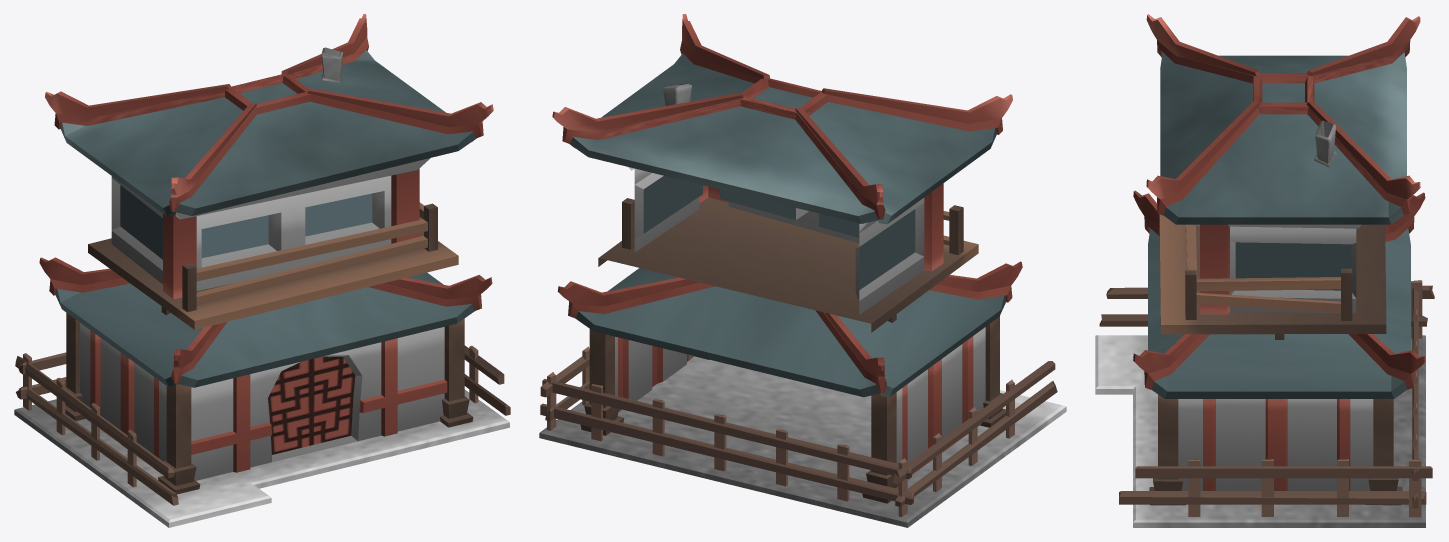
The model's file is blacksmith_3lvl_color.fbx.
The picture shows the model from 3 angles, left to right: view 1: azimuth 30°, elevation 25°; view 2: azimuth 150°, elevation 25°; view 3: azimuth 270°, elevation 25°; orthographic projection. The views are drawn at different scales.
Parts seen in each view (by area): view 1: blacksmith_3lvl1_color; view 2: blacksmith_3lvl1_color; view 3: blacksmith_3lvl1_color.
Part boxes in pixels (x1=…): blacksmith_3lvl1_color: x1=14, y1=14, x2=510, y2=527; blacksmith_3lvl1_color: x1=539, y1=14, x2=1066, y2=527; blacksmith_3lvl1_color: x1=1095, y1=14, x2=1434, y2=527.
Bounding box in the file's own units: 6.07 × 5.33 × 4.6.
